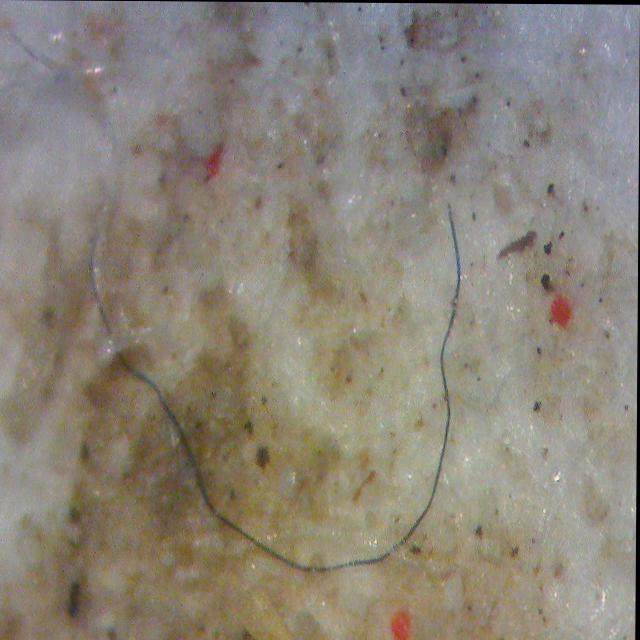microplastic: (83, 204, 489, 591)
